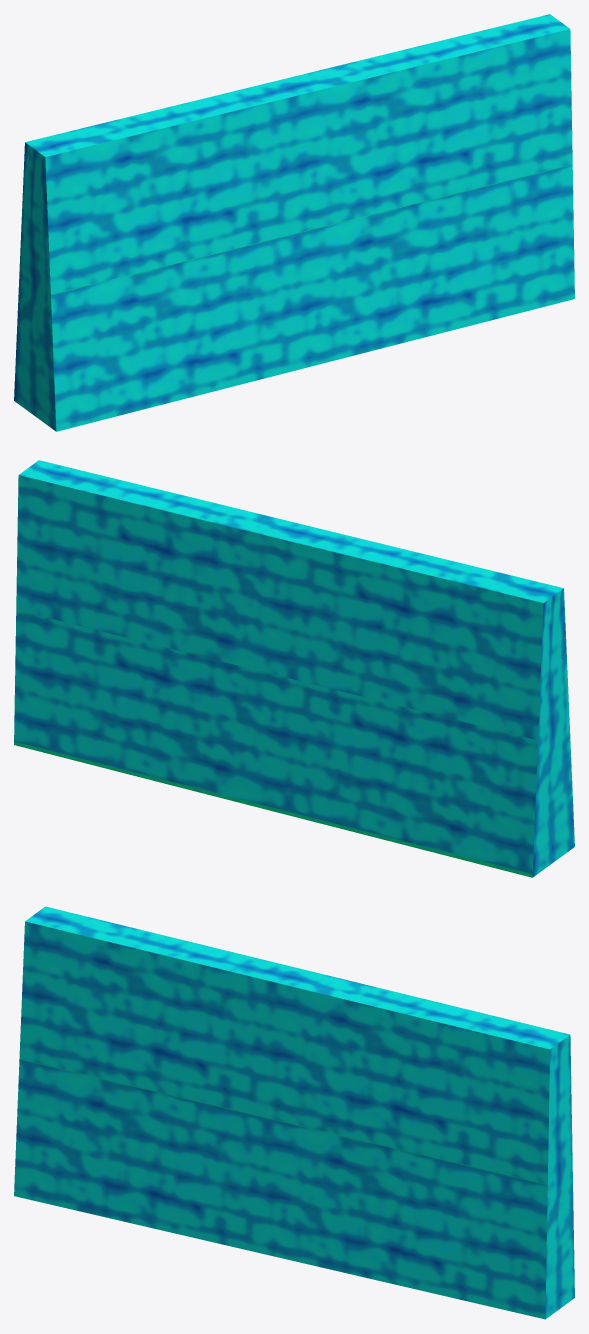
File: SM_Building_Muraille_01.fbx
The picture shows the model from 3 angles, top to bottom: view 1: azimuth 30°, elevation 25°; view 2: azimuth 150°, elevation 25°; view 3: azimuth 330°, elevation 25°; orthographic projection.
Visible parts, largest first — view 1: SM_Building_Muraille_01; view 2: SM_Building_Muraille_01; view 3: SM_Building_Muraille_01.
Boxes of the visible parts, box(x1,y1,x2,y2) form: SM_Building_Muraille_01: box(14, 14, 574, 431); SM_Building_Muraille_01: box(14, 460, 574, 877); SM_Building_Muraille_01: box(14, 906, 574, 1319).
Size of the model in its own units: 18.37 by 8.91 by 2.57.
1 material, 1 textured.
